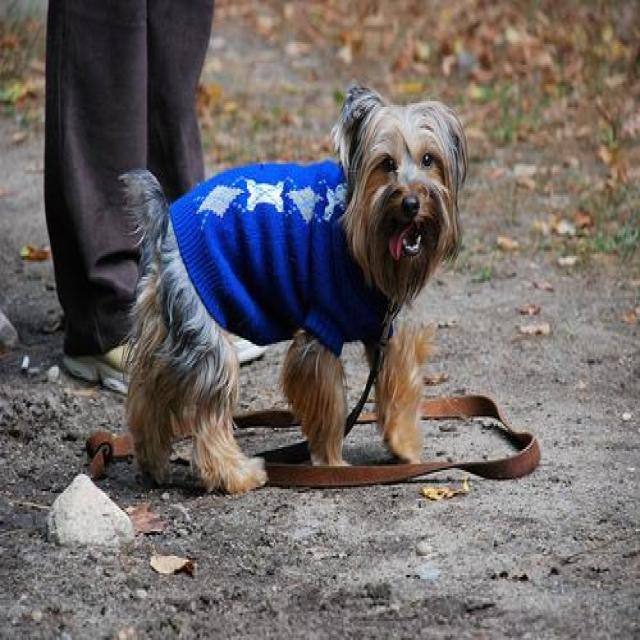happy: (106, 70, 475, 482)
